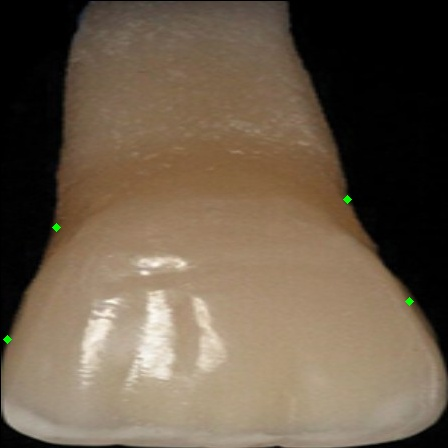coin_1: (347, 199, 367, 219)
coin_2: (409, 301, 429, 321)
coin_3: (56, 227, 76, 247)
coin_4: (7, 339, 27, 359)
